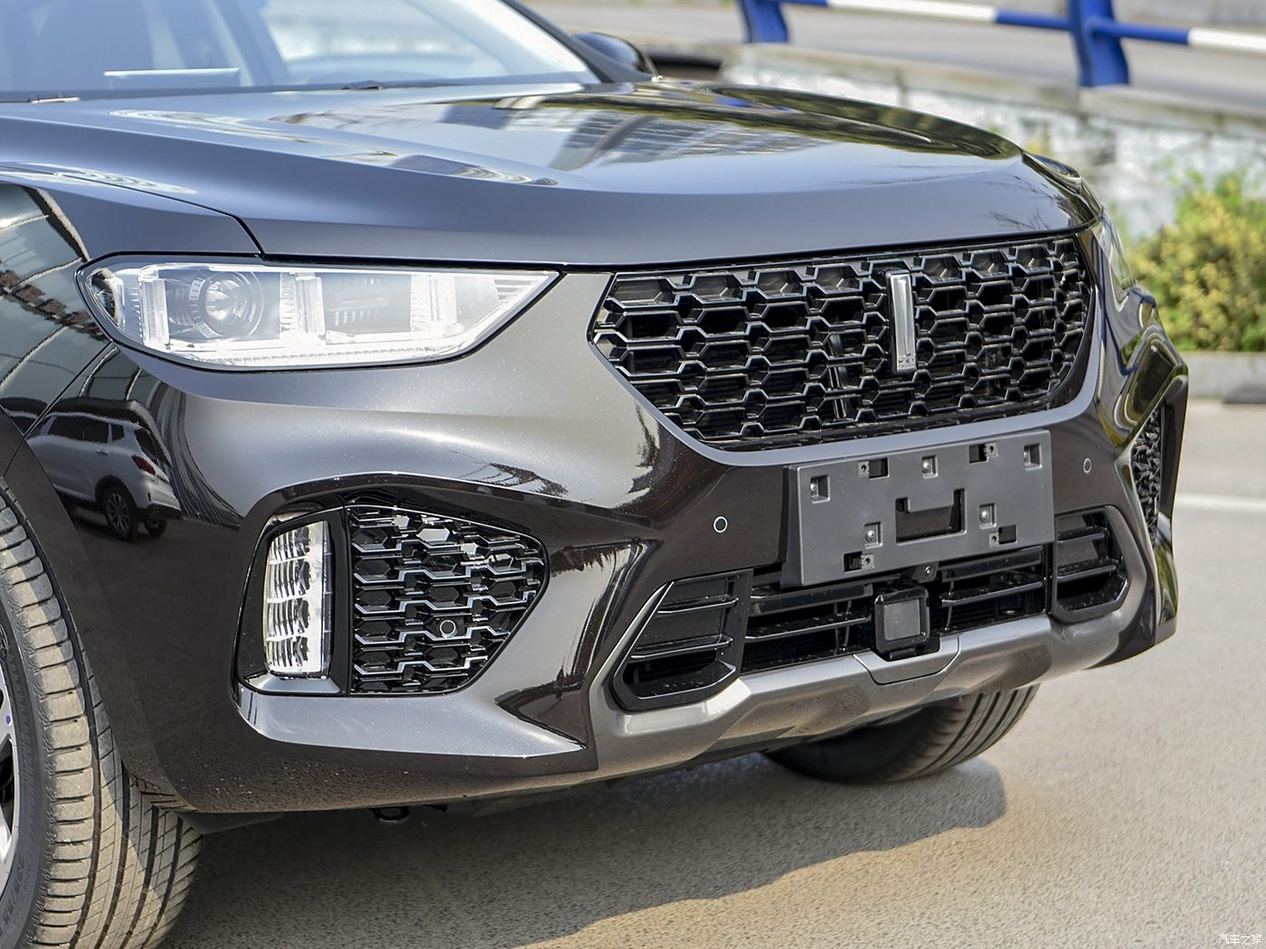WEY: (892, 276, 914, 370)
